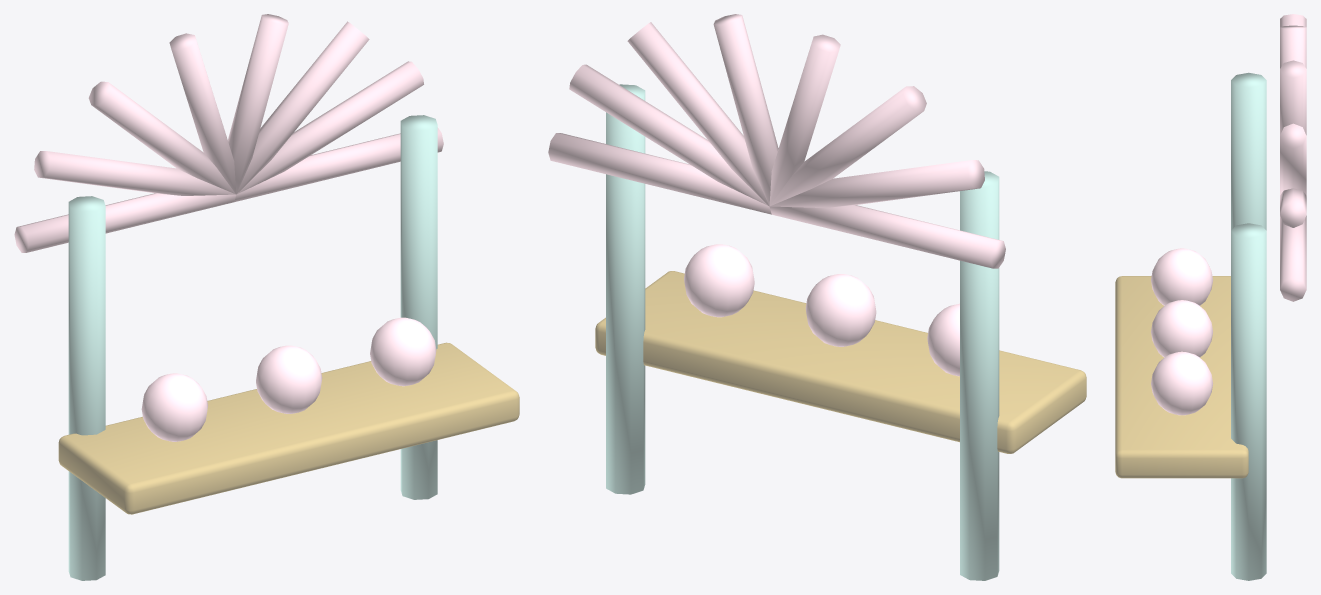
Rendered from atlantis_detail_shell_stall.glb.
The picture shows the model from 3 angles, left to right: view 1: azimuth 30°, elevation 25°; view 2: azimuth 150°, elevation 25°; view 3: azimuth 270°, elevation 25°; orthographic projection. The views are drawn at different scales.
Visible parts, largest first — view 1: atlantis_detail_shell_stall_surface; view 2: atlantis_detail_shell_stall_surface; view 3: atlantis_detail_shell_stall_surface.
Boxes of the visible parts, box(x1,y1,x2,y2) form: atlantis_detail_shell_stall_surface: box(14, 14, 519, 580); atlantis_detail_shell_stall_surface: box(548, 14, 1086, 580); atlantis_detail_shell_stall_surface: box(1115, 14, 1306, 580).
Bounding box in the file's own units: 4 × 4.5 × 1.72.
